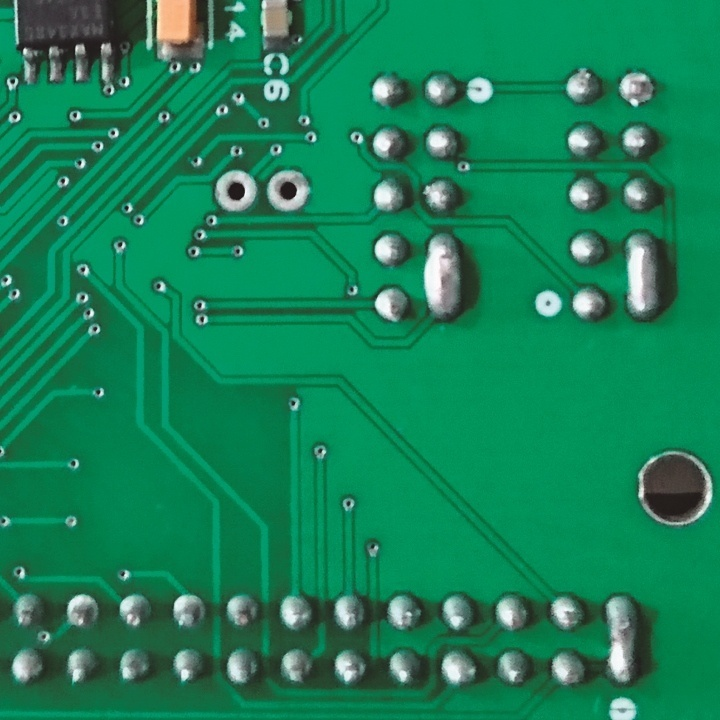F: (265, 168, 316, 217), (213, 165, 259, 218), (617, 66, 658, 114), (166, 591, 209, 635), (63, 592, 101, 632)
P: (420, 229, 470, 330), (622, 227, 665, 326), (602, 585, 641, 692)
